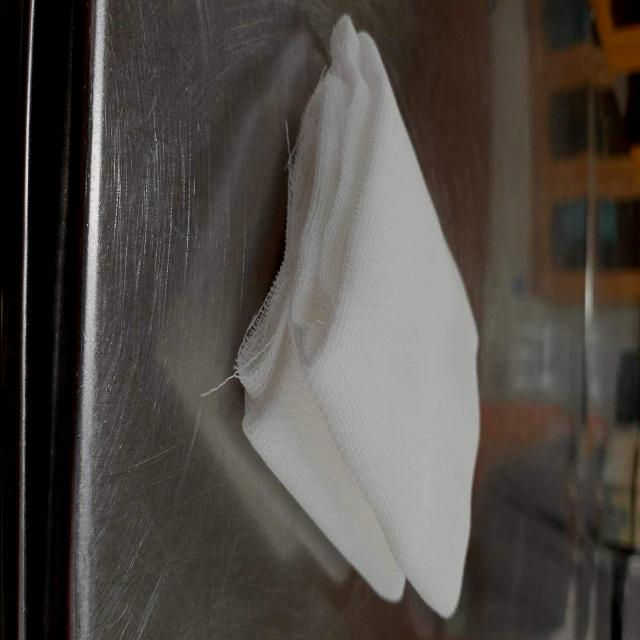General: (4, 3, 636, 636), (232, 12, 482, 620)
